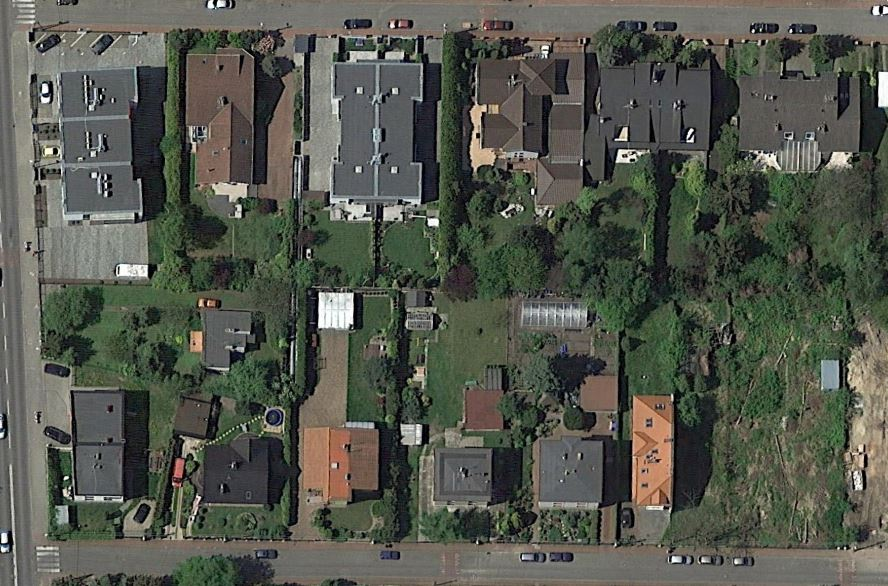family house: (464, 37, 589, 186), (740, 54, 875, 184), (177, 44, 271, 210), (60, 374, 132, 513), (621, 385, 693, 523), (299, 421, 395, 510), (528, 423, 610, 521), (192, 428, 276, 510), (427, 445, 499, 512)
terrace house: (38, 54, 162, 233), (318, 54, 437, 212), (602, 60, 714, 163)
